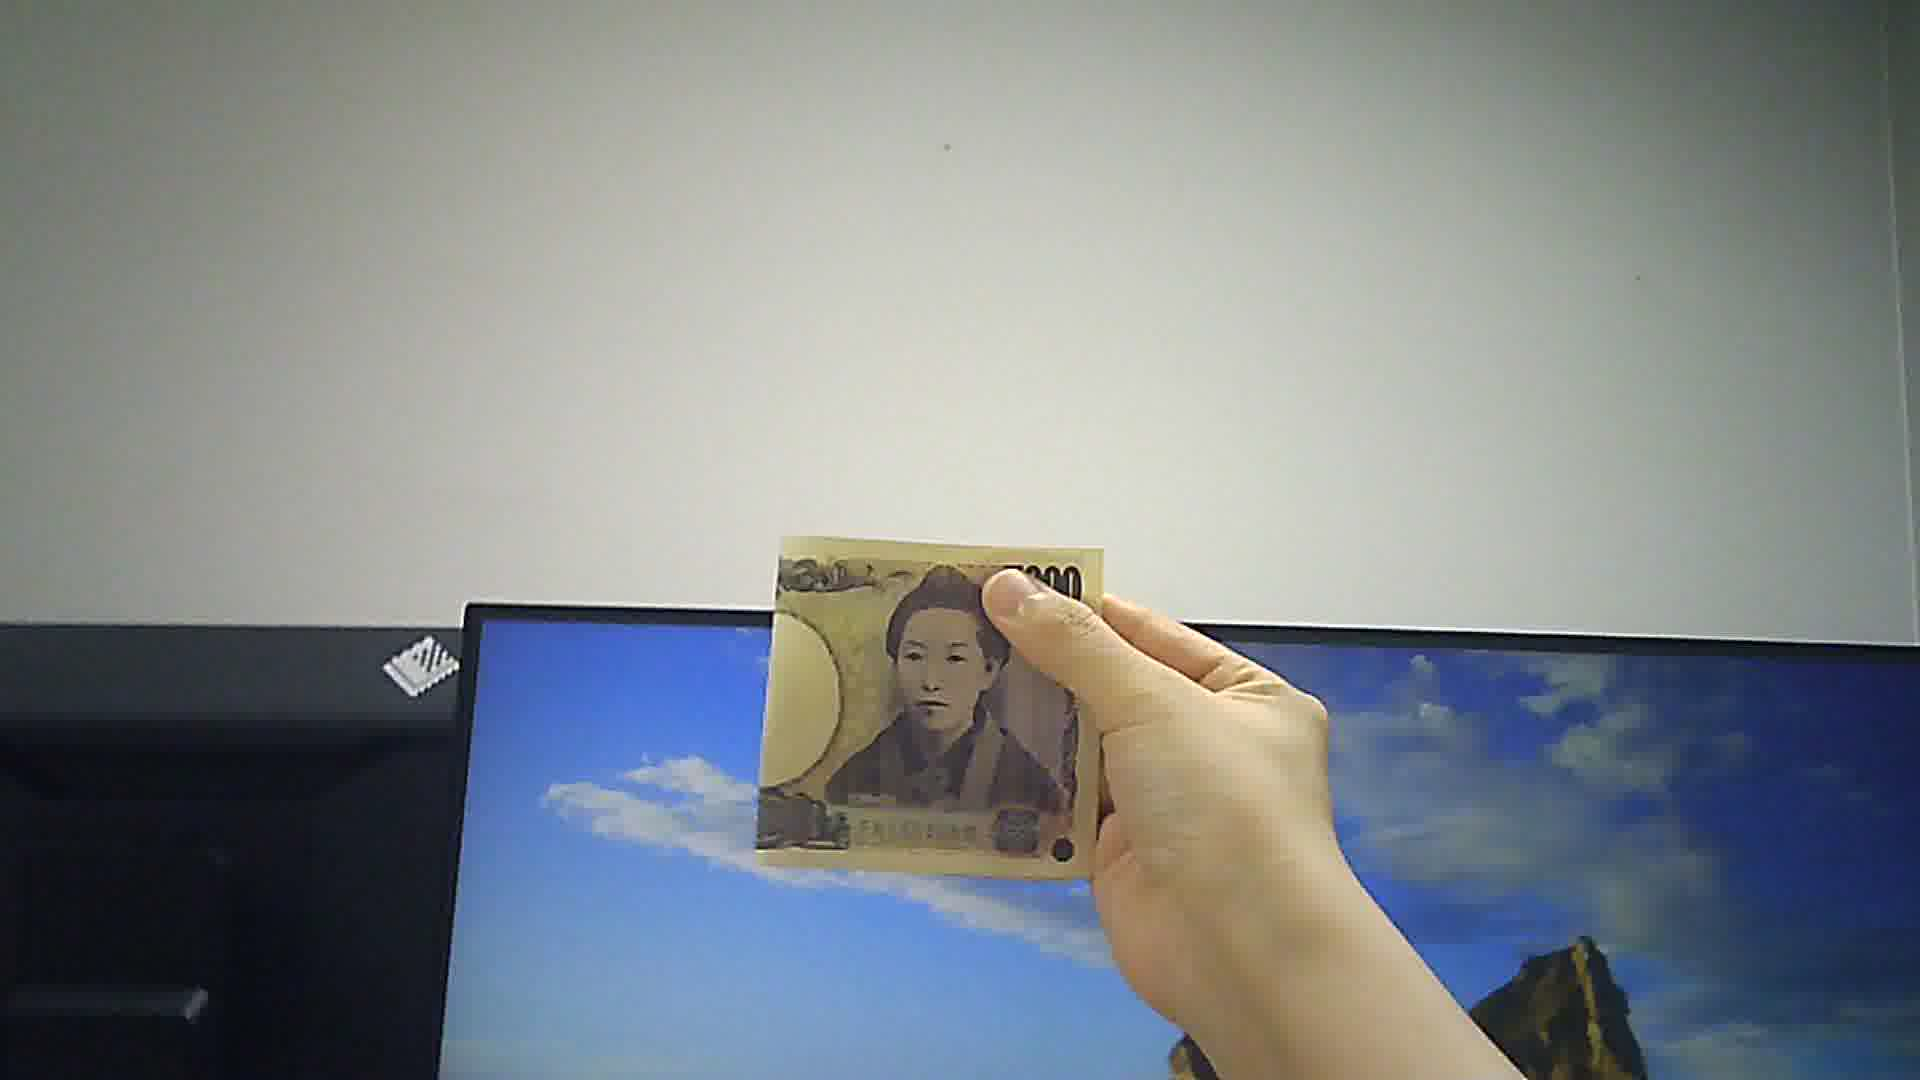5,000 Yen: (738, 524, 1102, 872)
